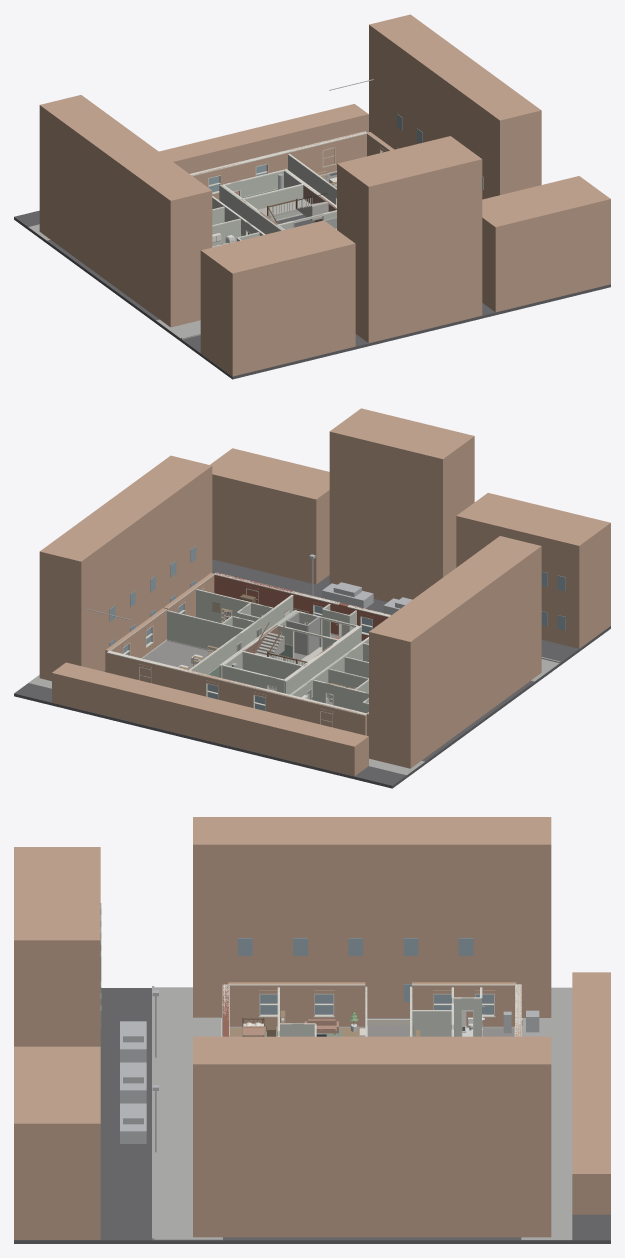
Rendered from floor_01.glb.
The picture shows the model from 3 angles, top to bottom: view 1: azimuth 30°, elevation 25°; view 2: azimuth 150°, elevation 25°; view 3: azimuth 270°, elevation 25°; orthographic projection. The views are drawn at different scales.
Visible parts, largest first — view 1: F01_furniture_common_brick-col, F01_walls-col, F01_walls_cbrick-col, F01_furniture_asphalt-col, F01_trim, F01_stairs, F01_furniture_concrete-col; view 2: F01_furniture_common_brick-col, F01_walls-col, F01_walls_cbrick-col, F01_furniture_asphalt-col, F01_trim, F01_walls_fbrick-col, F01_furniture_metal-col, F01_slabs-col, F01_furniture_glassish-col, F01_walls_conc-col, F01_furniture_concrete-col, F01_stone_trim-col (+2 smaller); view 3: F01_furniture_common_brick-col, F01_furniture_concrete-col, F01_furniture_asphalt-col, F01_walls_cbrick-col, F01_furniture_metal-col, F01_walls-col, F01_trim, F01_furniture_glassish-col, F01_glazing-col, F01_slabs-col, F01_stone_trim-col, F01_furnish_fabric_warm.
Part boxes in pixels (x1=…): F01_furniture_common_brick-col: x1=39, y1=14, x2=610, y2=376; F01_walls-col: x1=212, y1=155, x2=336, y2=246; F01_walls_cbrick-col: x1=191, y1=131, x2=394, y2=199; F01_furniture_asphalt-col: x1=14, y1=172, x2=610, y2=379; F01_trim: x1=190, y1=131, x2=390, y2=240; F01_stairs: x1=258, y1=199, x2=328, y2=220; F01_furniture_concrete-col: x1=28, y1=224, x2=200, y2=339; F01_furniture_common_brick-col: x1=39, y1=408, x2=610, y2=776; F01_walls-col: x1=167, y1=589, x2=368, y2=713; F01_walls_cbrick-col: x1=105, y1=573, x2=368, y2=736; F01_furniture_asphalt-col: x1=14, y1=559, x2=610, y2=788; F01_trim: x1=106, y1=572, x2=390, y2=715; F01_walls_fbrick-col: x1=214, y1=572, x2=391, y2=640; F01_furniture_metal-col: x1=86, y1=554, x2=412, y2=620; F01_slabs-col: x1=143, y1=634, x2=341, y2=704; F01_furniture_glassish-col: x1=109, y1=546, x2=565, y2=646; F01_walls_conc-col: x1=286, y1=612, x2=319, y2=655; F01_furniture_concrete-col: x1=28, y1=657, x2=560, y2=775; F01_stone_trim-col: x1=123, y1=588, x2=372, y2=727; F01_furniture_common_brick-col: x1=14, y1=817, x2=610, y2=1239; F01_furniture_concrete-col: x1=152, y1=986, x2=572, y2=1240; F01_furniture_asphalt-col: x1=14, y1=988, x2=610, y2=1243; F01_walls_cbrick-col: x1=228, y1=982, x2=521, y2=1036; F01_furniture_metal-col: x1=120, y1=990, x2=539, y2=1152; F01_walls-col: x1=278, y1=986, x2=481, y2=1036; F01_trim: x1=222, y1=984, x2=521, y2=1036; F01_furniture_glassish-col: x1=100, y1=903, x2=473, y2=1029; F01_glazing-col: x1=260, y1=994, x2=493, y2=1014; F01_slabs-col: x1=367, y1=1025, x2=514, y2=1036; F01_stone_trim-col: x1=258, y1=993, x2=495, y2=1017; F01_furnish_fabric_warm: x1=243, y1=1019, x2=338, y2=1035.
Size of what is drawn, in the model's own units: 40 by 16.1 by 40.
